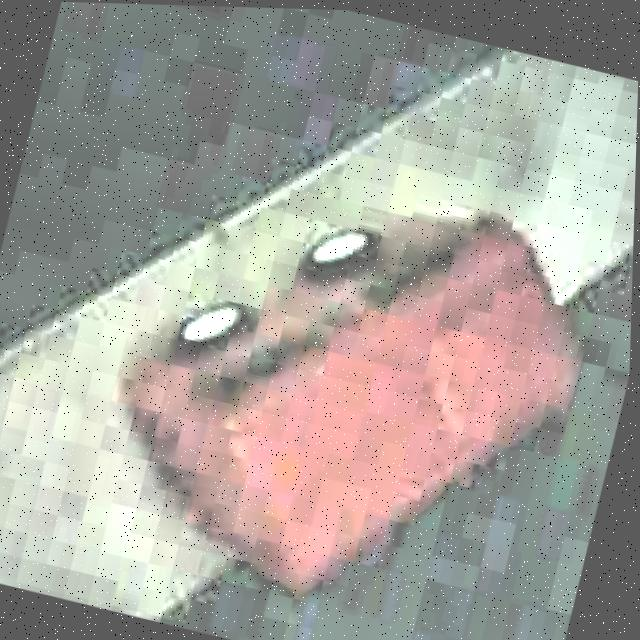bus: (81, 131, 611, 639)
